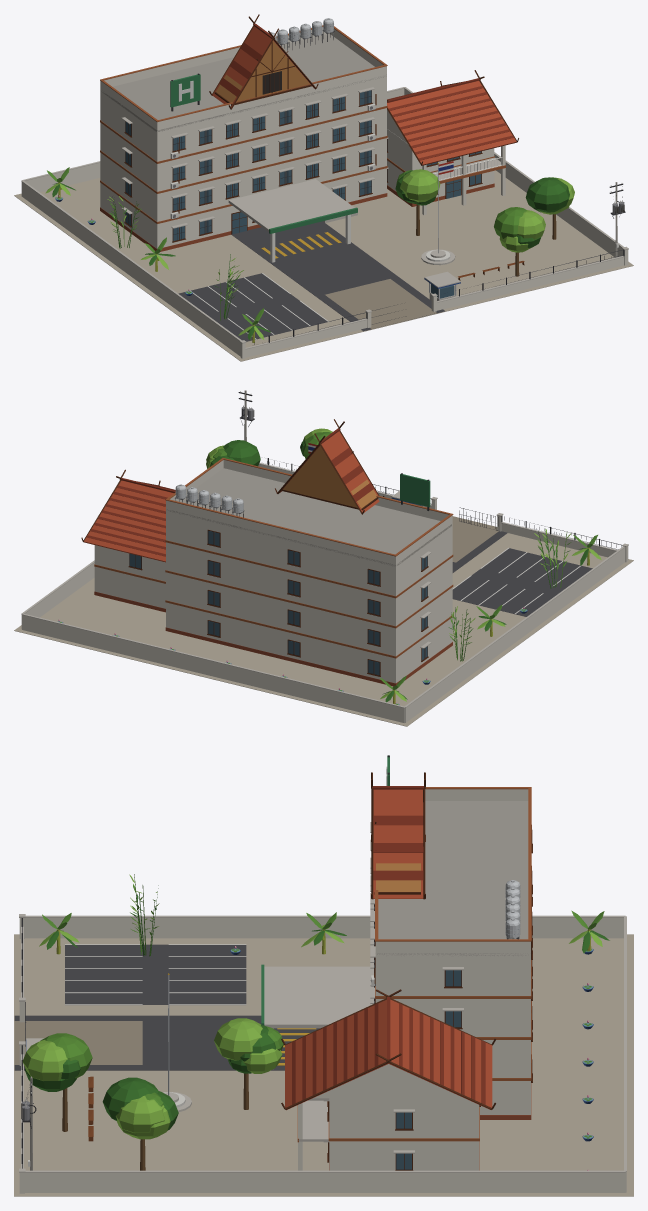
Rendered from hospital.glb.
The picture shows the model from 3 angles, top to bottom: view 1: azimuth 30°, elevation 25°; view 2: azimuth 150°, elevation 25°; view 3: azimuth 270°, elevation 25°; orthographic projection. The views are drawn at different scales.
Visible parts, largest first — view 1: body, windows; view 2: body, windows; view 3: body, windows.
Boxes of the visible parts, x1=… form: body: x1=14, y1=14, x2=633, y2=361; windows: x1=125, y1=71, x2=481, y2=298; body: x1=14, y1=390, x2=633, y2=726; windows: x1=129, y1=500, x2=427, y2=675; body: x1=14, y1=755, x2=633, y2=1196; windows: x1=396, y1=970, x2=461, y2=1169.
Bounding box in the file's own units: 47.9 × 22.91 × 47.9.
